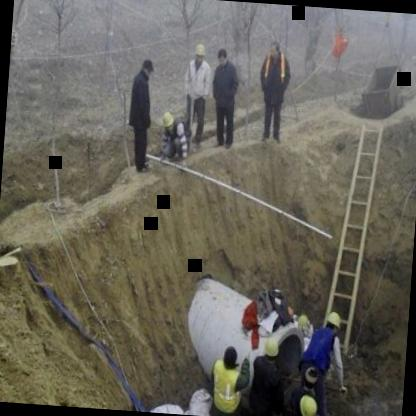head: (300, 362, 321, 392), (220, 344, 241, 372), (266, 38, 284, 62), (139, 53, 154, 80), (215, 47, 228, 69)
helmet: (261, 334, 281, 367), (320, 310, 342, 339), (297, 395, 320, 416), (191, 42, 208, 67), (160, 110, 176, 134)
